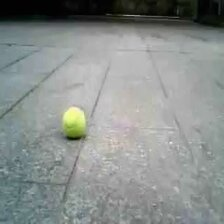tennis: (62, 106, 85, 136)
